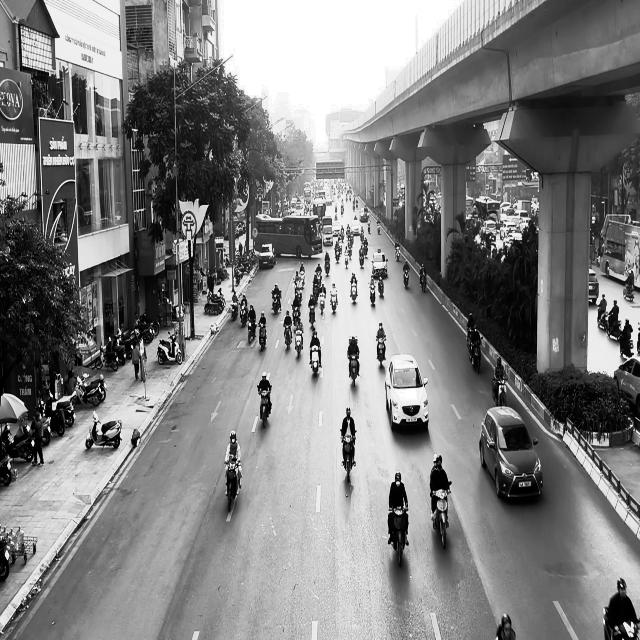bus: (598, 214, 640, 288), (254, 214, 322, 258)
car: (479, 405, 543, 500), (384, 354, 428, 432), (613, 356, 640, 412), (258, 242, 276, 268), (588, 268, 599, 303)
motorbike: (429, 481, 452, 548), (85, 411, 122, 449), (388, 506, 408, 566), (224, 457, 242, 512), (157, 328, 183, 364), (340, 432, 356, 484), (466, 328, 482, 374), (257, 385, 271, 428), (492, 371, 508, 406), (309, 340, 323, 378), (347, 352, 359, 387), (376, 335, 386, 368), (294, 327, 303, 358), (258, 322, 267, 350), (283, 321, 292, 349), (271, 290, 281, 314), (368, 277, 376, 306), (248, 318, 256, 343), (350, 279, 358, 303), (240, 302, 248, 326), (330, 291, 338, 313), (419, 272, 427, 292), (378, 274, 384, 297), (403, 266, 409, 288)
